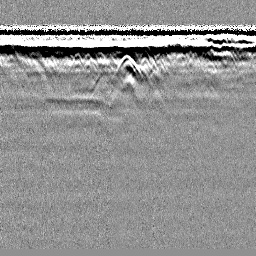cavity: (113, 52, 143, 79)
